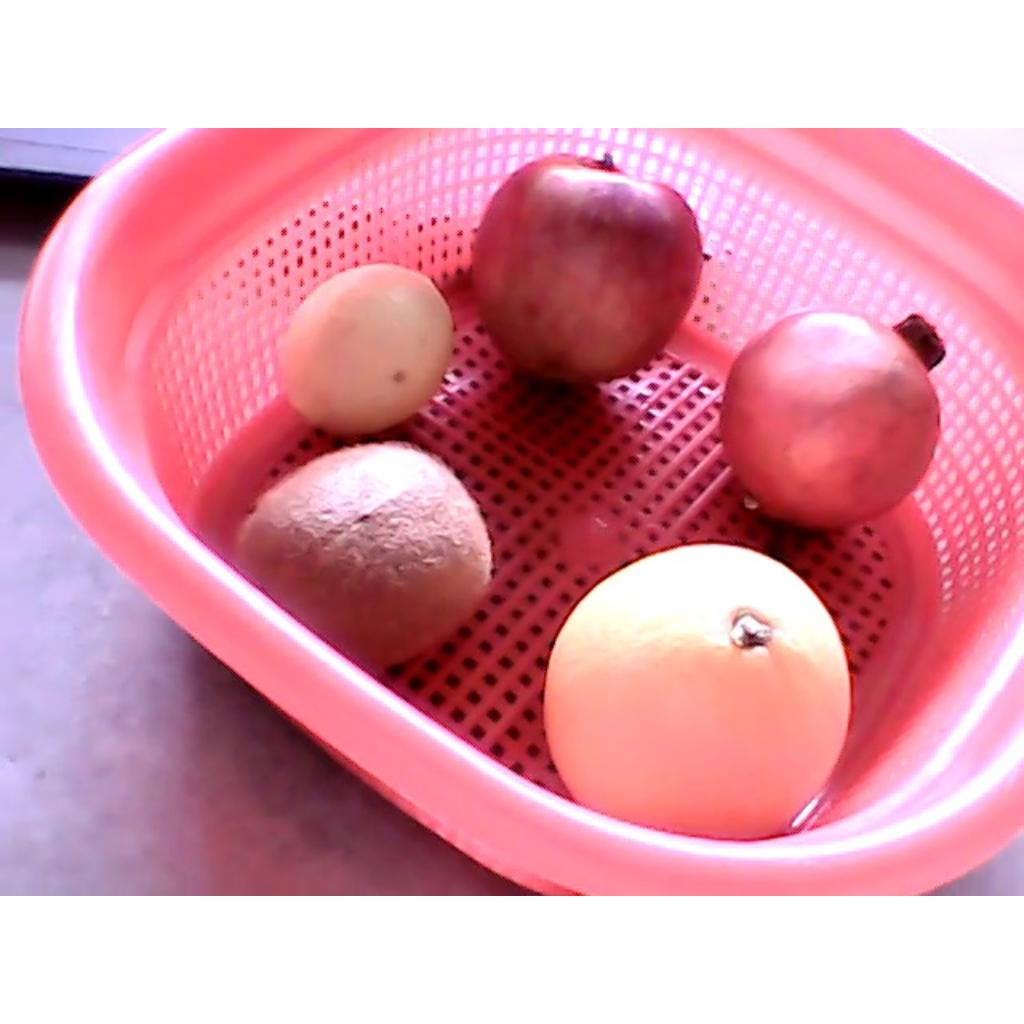apple: (472, 151, 703, 386)
kiwi: (233, 444, 494, 669)
lemon: (279, 263, 456, 436)
orange: (542, 542, 850, 842)
pomegranate: (720, 309, 948, 531)
